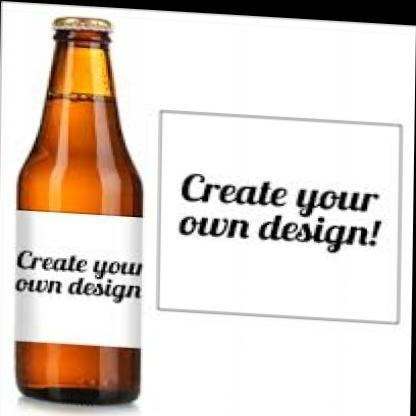trash: (16, 17, 141, 403)
